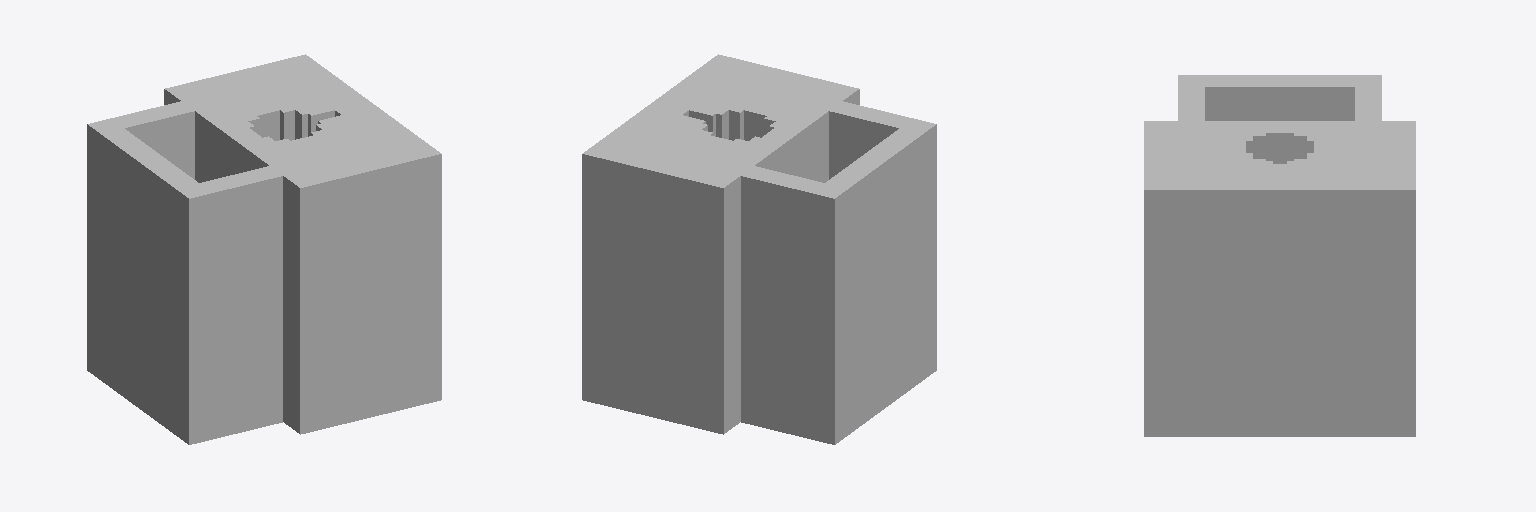
File: lock.obj
3 renders of one model, left to right at view 1: azimuth 30°, elevation 25°; view 2: azimuth 150°, elevation 25°; view 3: azimuth 270°, elevation 25°, orthographic.
Visible parts, largest first — view 1: object 1; view 2: object 1; view 3: object 1.
Boxes of the visible parts, box(x1,y1,x2,y2) form: object 1: box(87, 54, 441, 444); object 1: box(582, 54, 936, 444); object 1: box(1144, 75, 1415, 436).
Bounding box in the file's own units: 4 × 4 × 4.